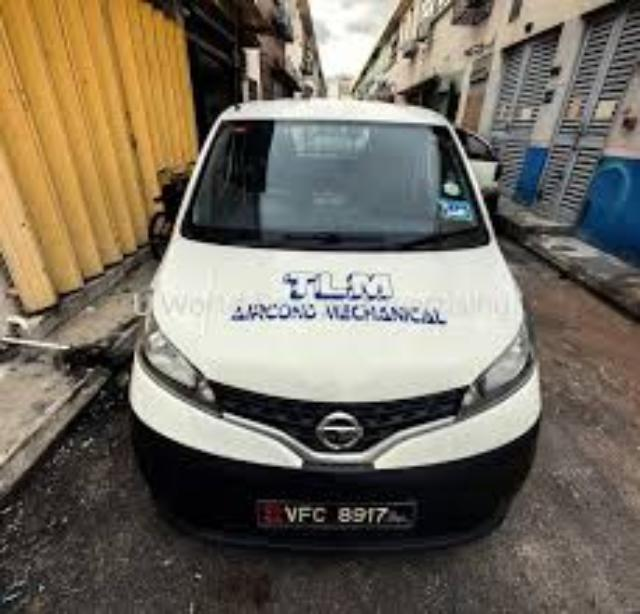License_Plate: (252, 502, 403, 537)
van: (129, 90, 555, 557)
